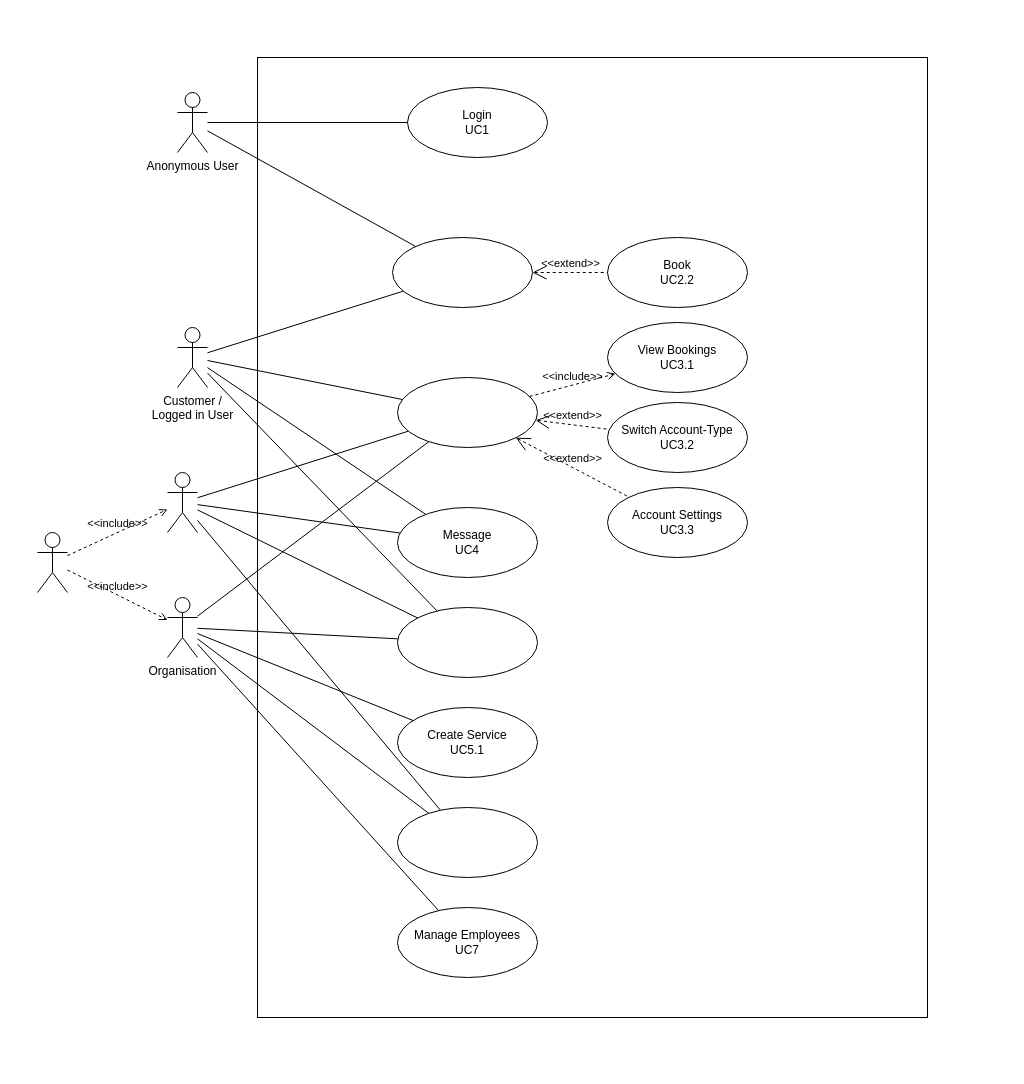
The diagram is 1024 pixels wide and 1084 high, and some of its shapes have lost their labels. Each missing label, with the centre of its shape:
"Employee" goes at point (182, 502).
"Independent Individual" goes at point (52, 562).
"Manage Service UC5.2" goes at point (467, 842).
"Starting Page UC3" goes at point (467, 412).
"View Calender(s) UC6" goes at point (467, 642).
"View Service UC2.1" goes at point (462, 272).
